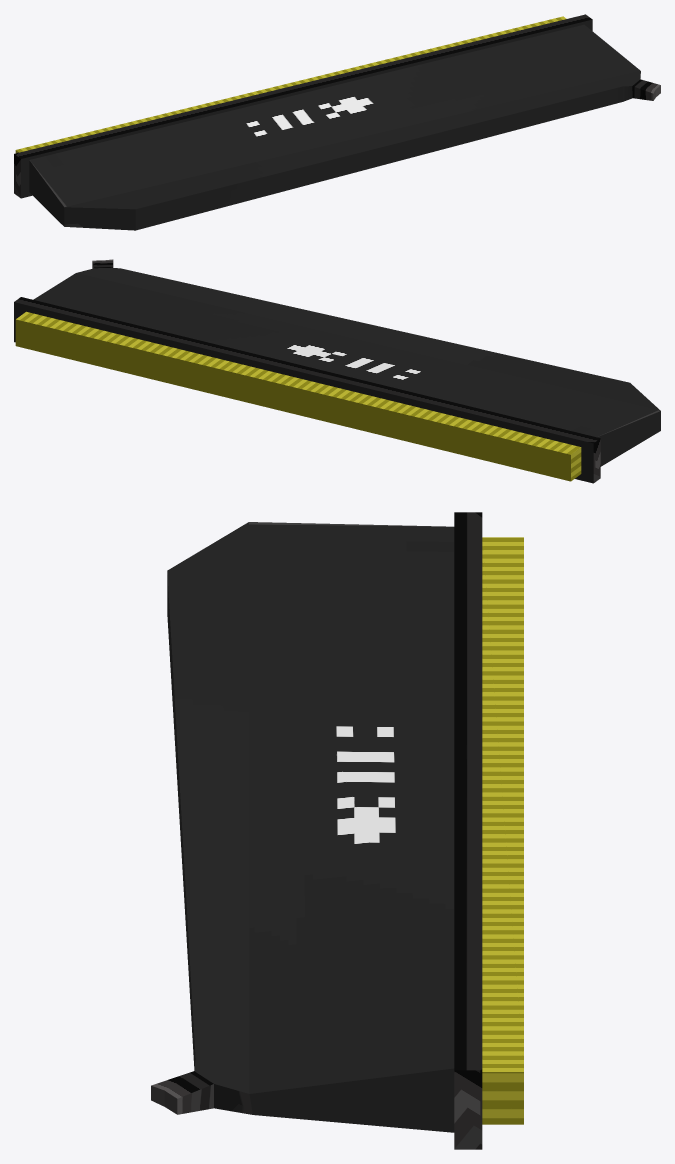
The model's file is RAM_Preto.fbx.
3 renders of one model, top to bottom at view 1: azimuth 30°, elevation 25°; view 2: azimuth 150°, elevation 25°; view 3: azimuth 270°, elevation 25°, orthographic. The views are drawn at different scales.
Visible parts, largest first — view 1: Ram8; view 2: Ram8; view 3: Ram8.
Part boxes in pixels (box(x1,y1,x2,y2)): Ram8: box(14, 14, 660, 230); Ram8: box(14, 259, 660, 483); Ram8: box(151, 512, 523, 1149).
Size of the model in its own units: 473 by 30.8 by 132.
